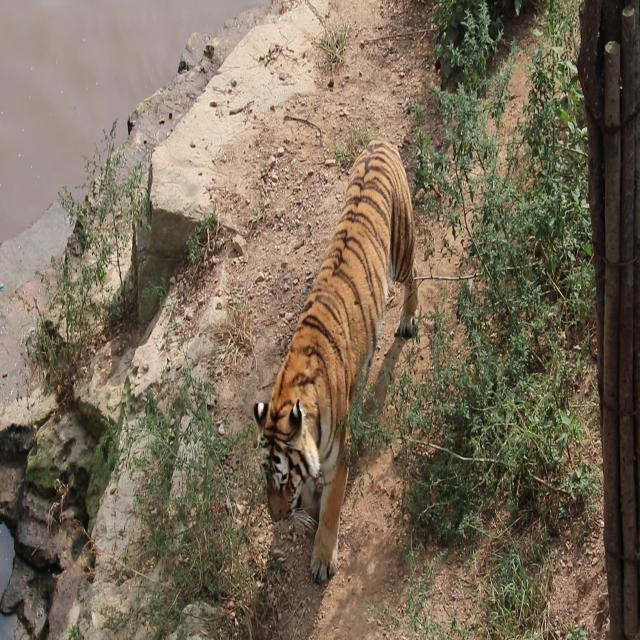Tiger: (254, 93, 438, 640)
